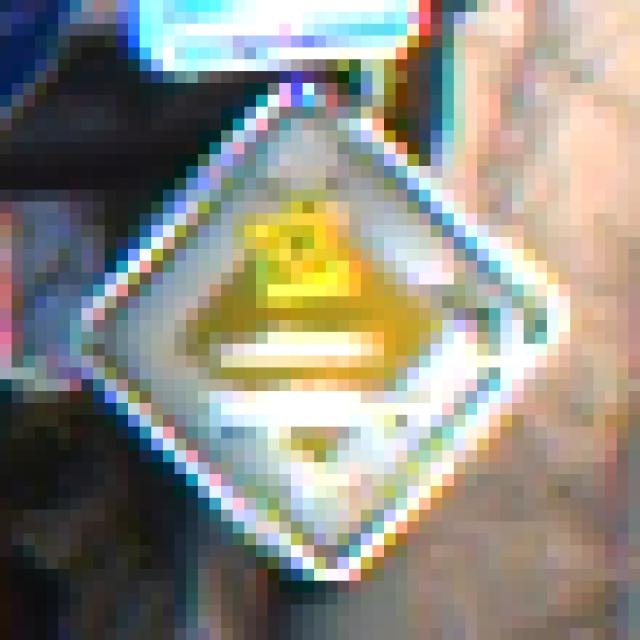Main Road: (59, 72, 583, 582)
